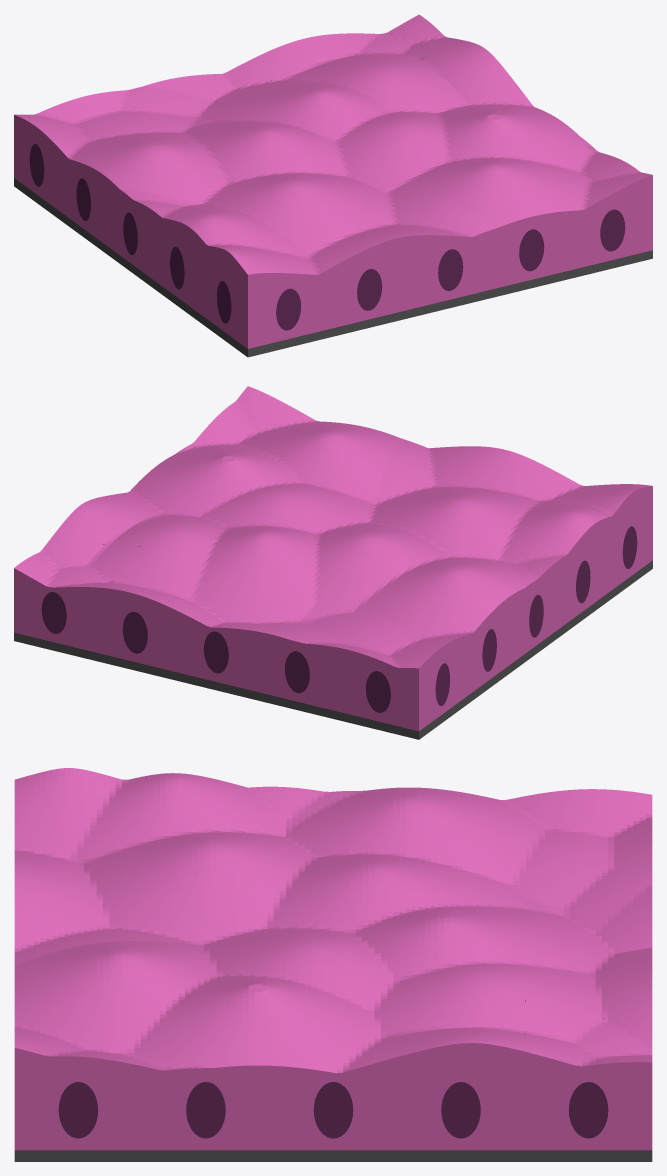
Rendered from Cuboidal.gltf.
3 views of the same model, one above another, from view 1: azimuth 30°, elevation 25°; view 2: azimuth 150°, elevation 25°; view 3: azimuth 270°, elevation 25° (orthographic). The views are drawn at different scales.
Visible parts, largest first — view 1: Cube.013; view 2: Cube.013; view 3: Cube.013.
Boxes of the visible parts, x1,y1,x2,y2 form: Cube.013: (14, 14, 652, 357); Cube.013: (14, 386, 652, 739); Cube.013: (14, 768, 652, 1161).
Bounding box in the file's own units: 10.02 × 2.2 × 10.02.
